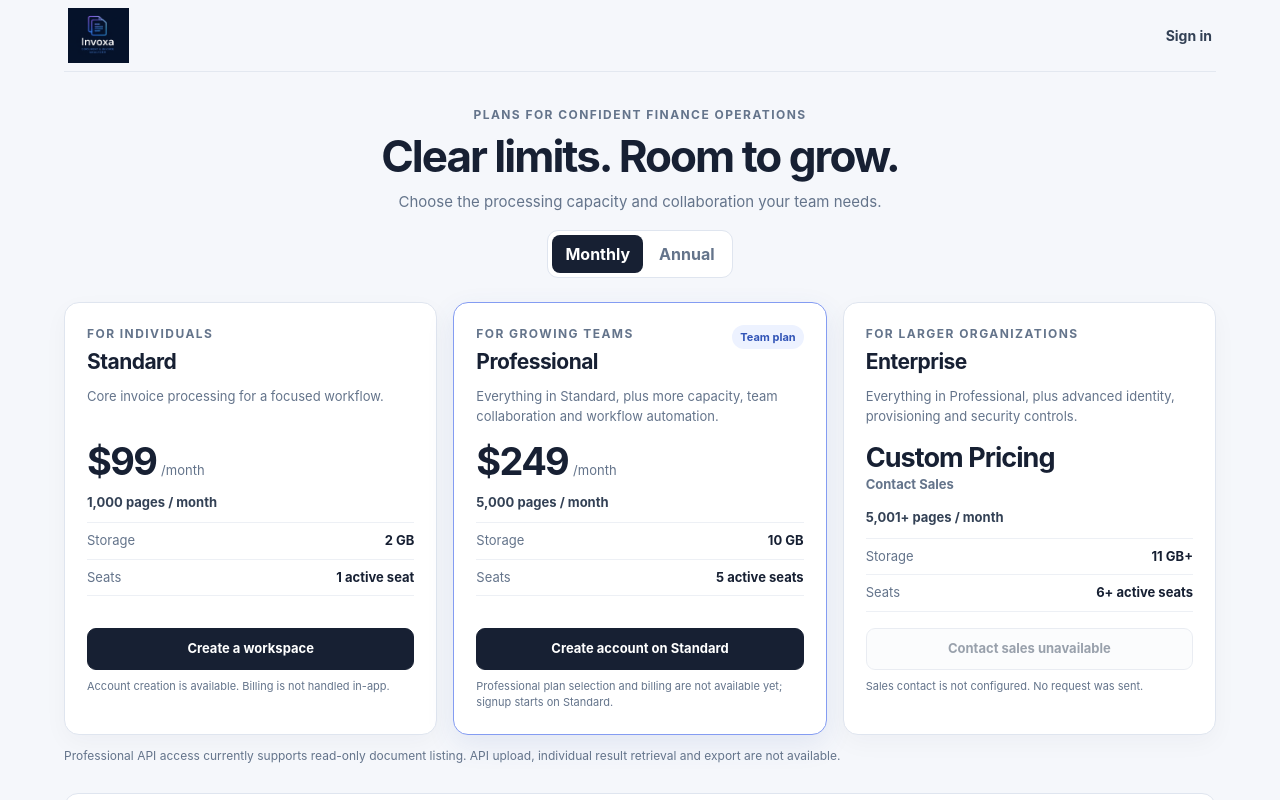
Test case: public pricing page › toggles approved monthly and annual pricing accessibly
What coordinates should you click on to do the following:
click the button "Annual"
I would click on:
 (687, 254)
Its box is x1=646 y1=235 x2=728 y2=273.
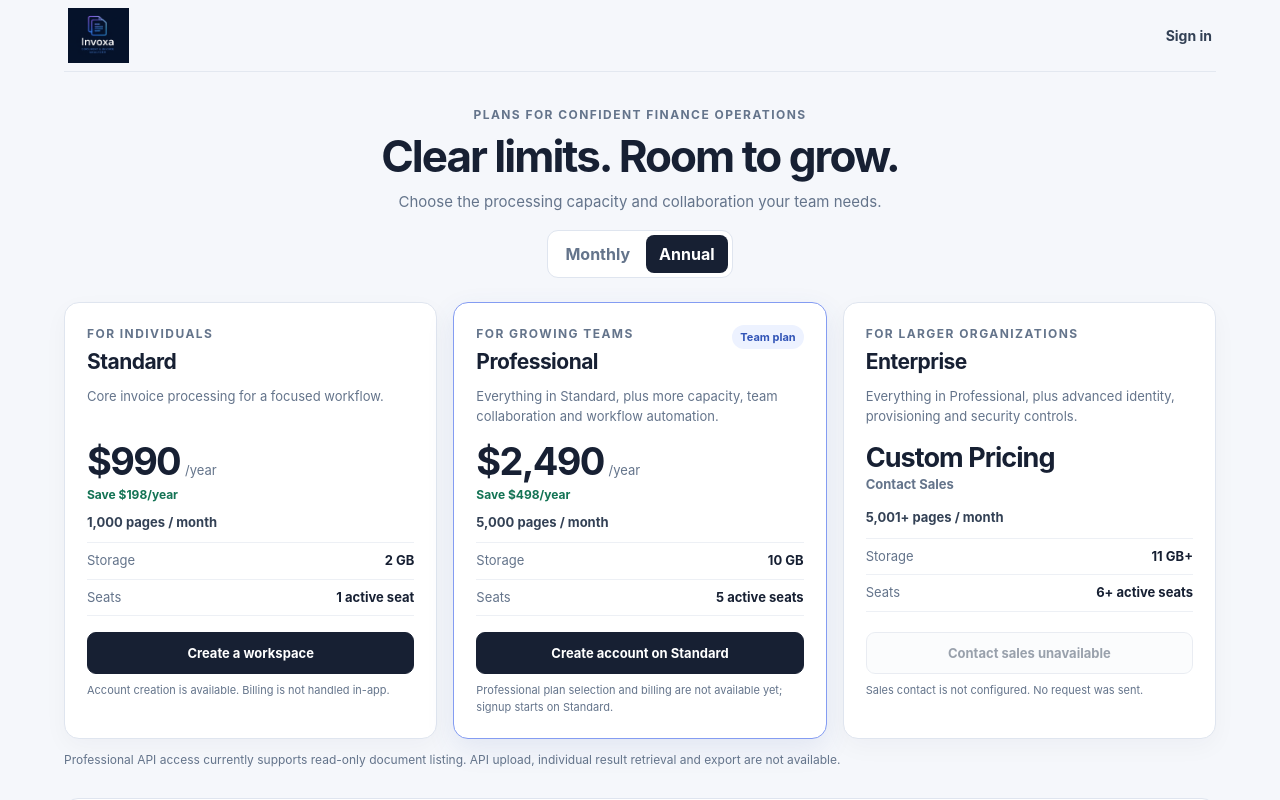
expect the text "$990" is shown: met, box x1=87 y1=440 x2=180 y2=484
expect the text "$2,490" is shown: met, box x1=476 y1=440 x2=604 y2=484
expect the text "Save $198/year" is shown: met, box x1=87 y1=487 x2=178 y2=502
What coordinates should you click on to do the following:
click the button "Monthly"
I would click on:
 (598, 254)
Its box is x1=552 y1=235 x2=643 y2=273.
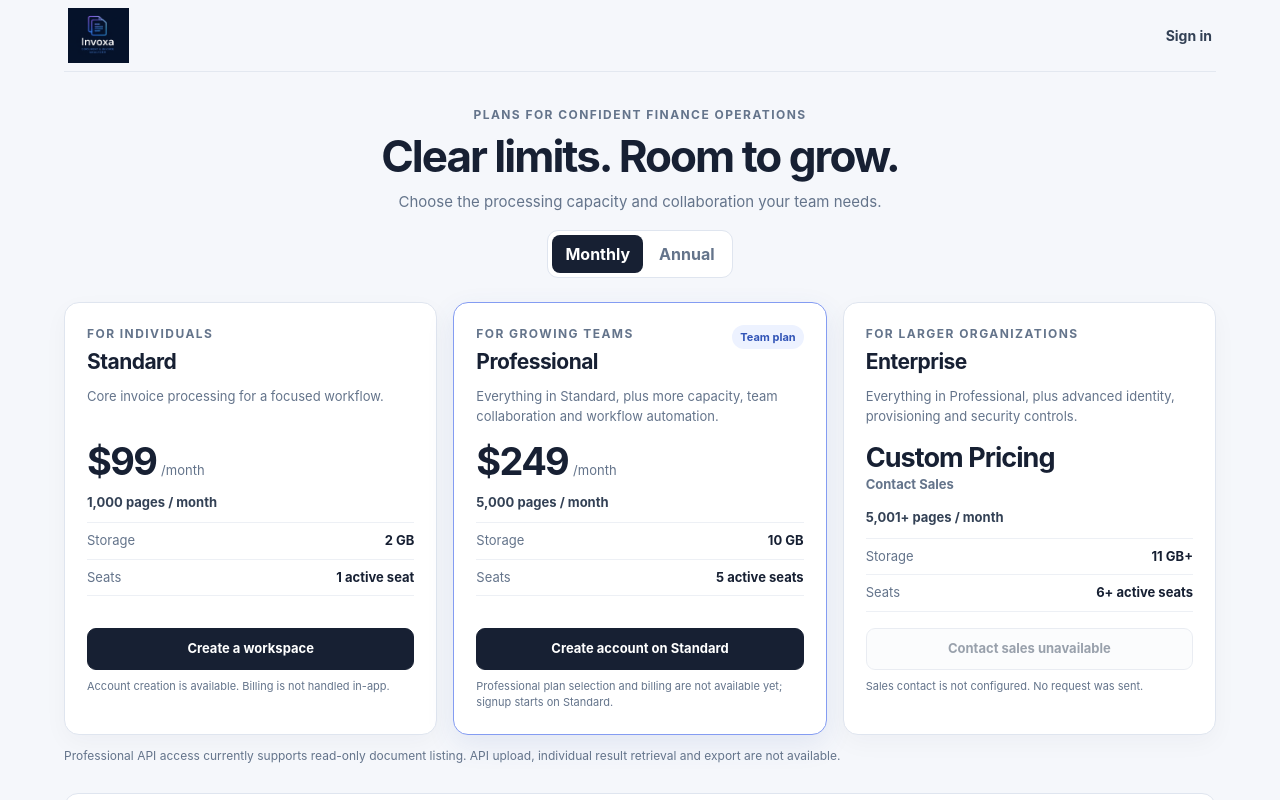
expect the text "$99" is shown: met, box x1=87 y1=440 x2=156 y2=484
expect the text "$249" is shown: met, box x1=476 y1=440 x2=568 y2=484
